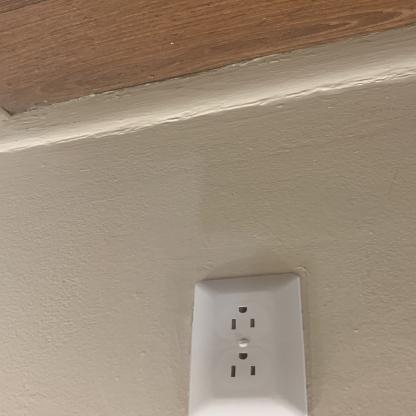OUTLET: (187, 271, 311, 415)
